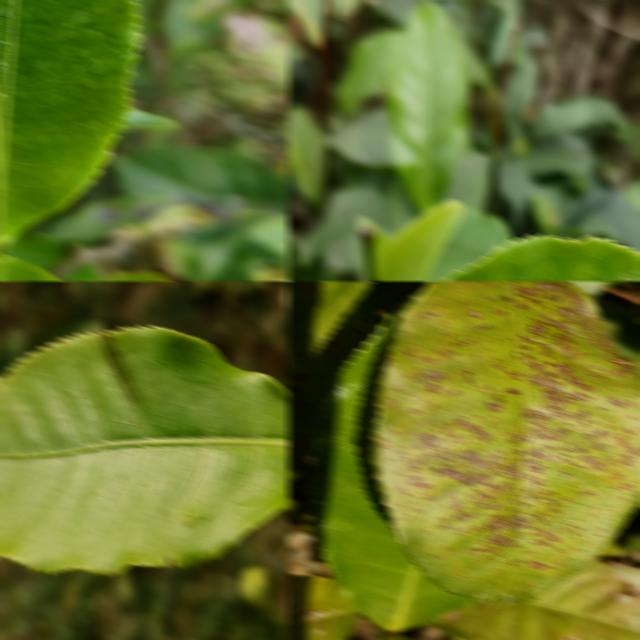Leaf: (372, 281, 640, 603), (0, 327, 290, 573), (310, 315, 467, 631), (0, 0, 140, 245), (286, 281, 403, 466), (385, 1, 471, 210), (439, 561, 640, 640), (110, 145, 290, 211), (376, 199, 466, 281), (338, 29, 401, 115), (286, 574, 361, 640), (286, 106, 328, 206), (246, 213, 290, 259), (286, 0, 324, 48)
